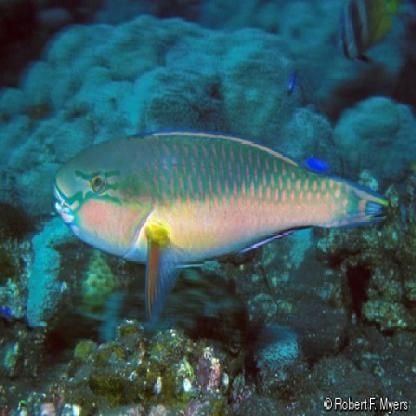Bio: (48, 125, 388, 325)
